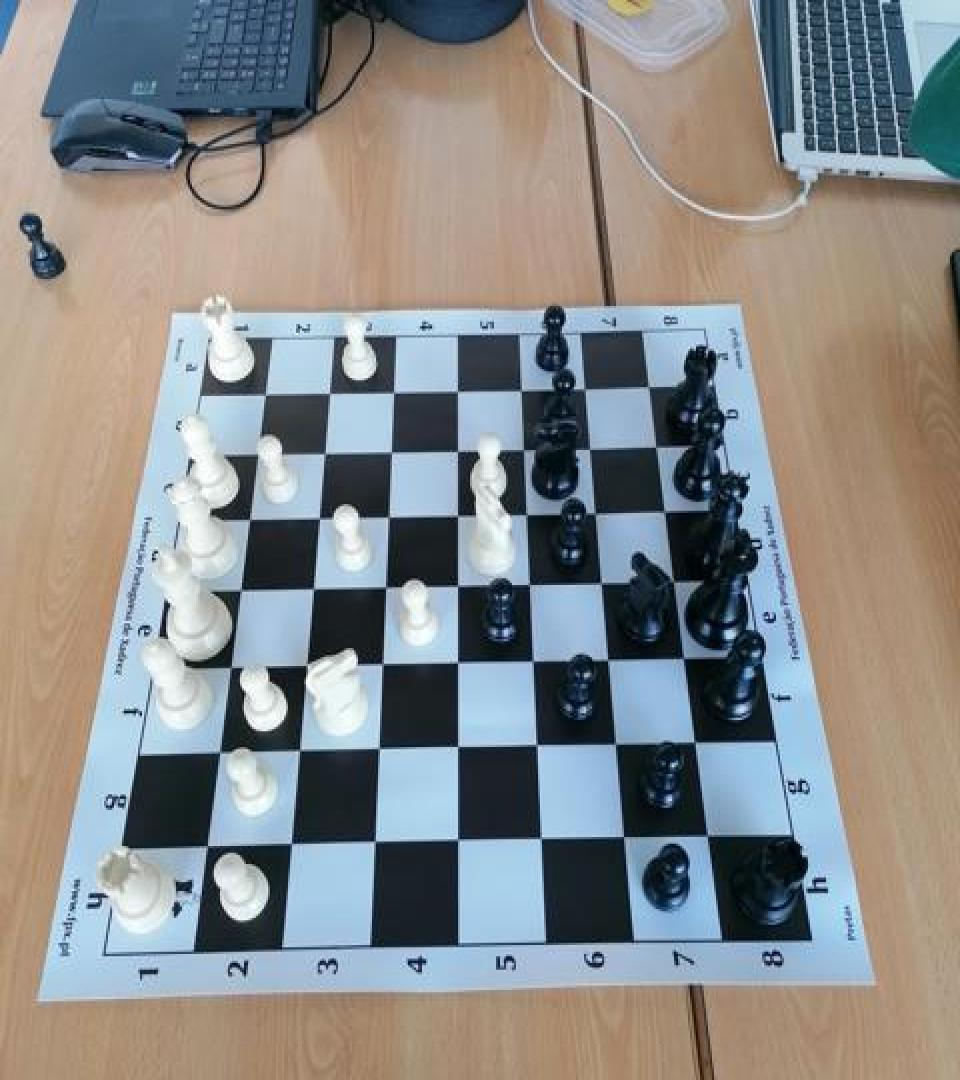xcorner: (637, 370, 667, 404), (572, 371, 602, 405), (442, 374, 472, 408), (377, 376, 407, 410), (312, 377, 342, 411), (248, 379, 278, 413), (645, 431, 675, 465), (577, 432, 607, 466), (510, 434, 540, 468), (442, 435, 472, 469), (375, 436, 405, 470), (307, 438, 337, 472), (240, 440, 270, 474), (653, 496, 683, 530), (583, 497, 613, 531), (513, 500, 543, 534), (372, 502, 402, 536), (302, 504, 332, 538), (232, 505, 262, 539), (662, 567, 692, 601), (589, 569, 619, 603), (516, 570, 546, 604), (443, 572, 473, 606), (370, 574, 400, 608), (296, 575, 326, 609), (223, 577, 253, 611), (596, 646, 626, 680), (520, 648, 550, 682), (443, 649, 473, 683), (367, 651, 397, 685), (213, 654, 243, 688), (684, 729, 714, 763), (603, 731, 633, 765), (523, 732, 553, 766), (443, 734, 473, 768), (363, 736, 393, 770), (283, 738, 313, 772), (203, 739, 233, 773), (696, 822, 726, 856), (612, 824, 642, 858), (528, 826, 558, 860), (444, 828, 474, 862), (360, 829, 390, 863), (275, 831, 305, 865), (191, 834, 221, 868), (507, 374, 537, 407), (443, 501, 473, 534), (673, 645, 703, 678), (290, 653, 320, 686)
